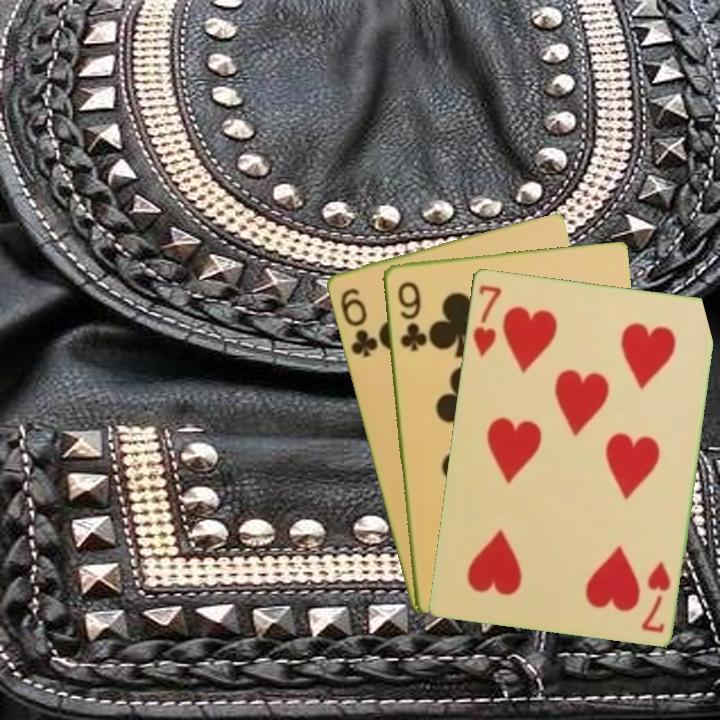6c: (336, 284, 381, 360)
7h: (637, 557, 673, 635), (469, 281, 504, 360)
9c: (394, 278, 426, 354)
